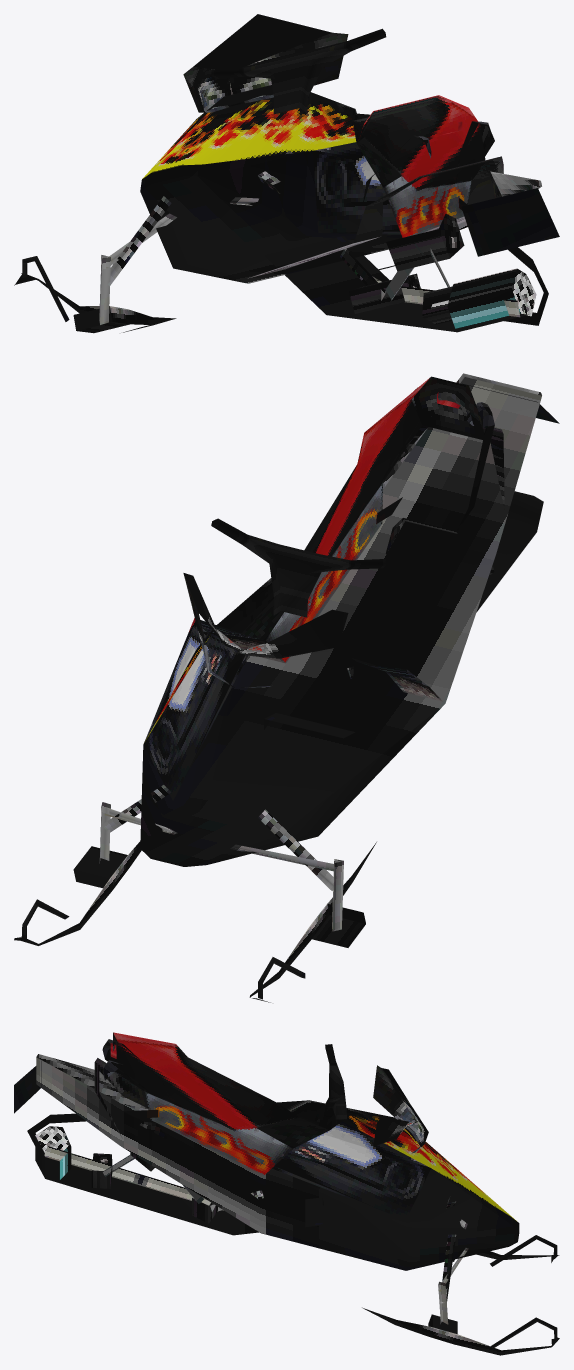
Rendered from ps2_save-icons_snocross2featuringblairmorgan.glb.
3 views of the same model, one above another, from view 1: azimuth 30°, elevation 25°; view 2: azimuth 150°, elevation 25°; view 3: azimuth 270°, elevation 25° (orthographic). The views are drawn at different scales.
Parts seen in each view (by area): view 1: SC2ICON1.ICO; view 2: SC2ICON1.ICO; view 3: SC2ICON1.ICO.
Part boxes in pixels (x1,y1,x2,y2): SC2ICON1.ICO: [14, 14, 559, 333]; SC2ICON1.ICO: [14, 373, 559, 1002]; SC2ICON1.ICO: [14, 1032, 559, 1355].
Size of the model in its own units: 1.77 by 2.33 by 4.29.
Materials: 1 (1 with a texture image).
